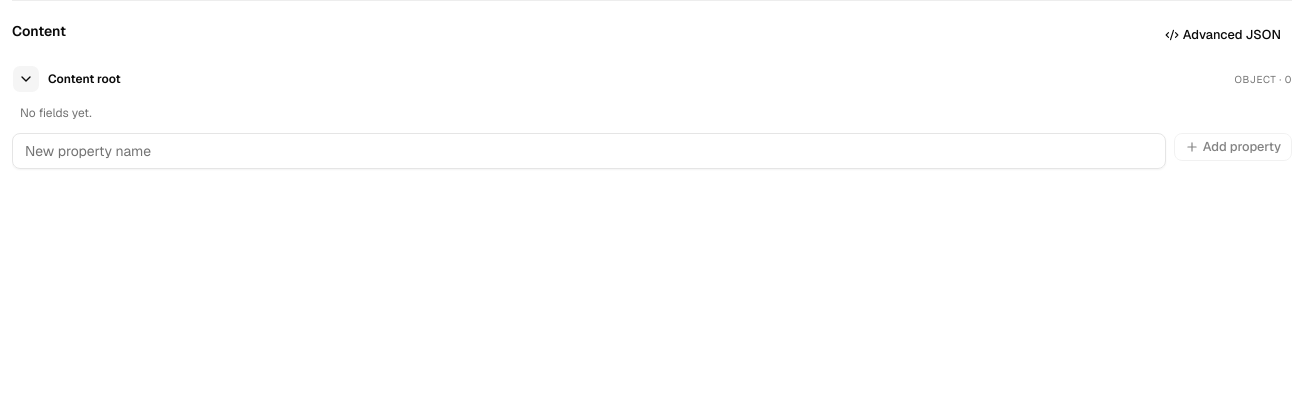
Scenario: StructuredJsonEditor › rejects array roots and has no serious accessibility violations
The image size is (1304, 405).
Step 1. Click the button "Advanced JSON" → coordinates (1223, 35), box x1=1154 y1=21 x2=1292 y2=49
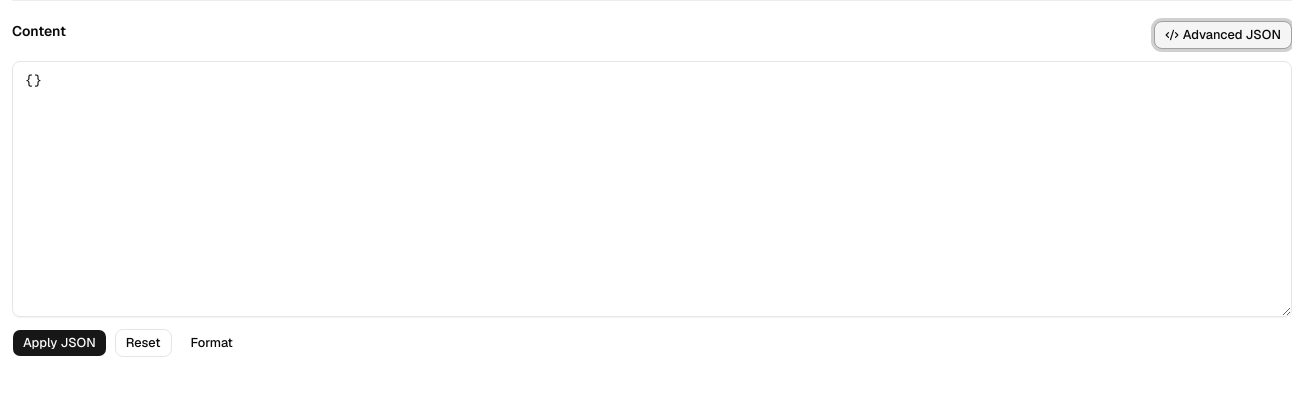
Step 2. Replace the text in the text box named "Content raw JSON" with "[]" → coordinates (652, 189), box x1=12 y1=61 x2=1292 y2=317
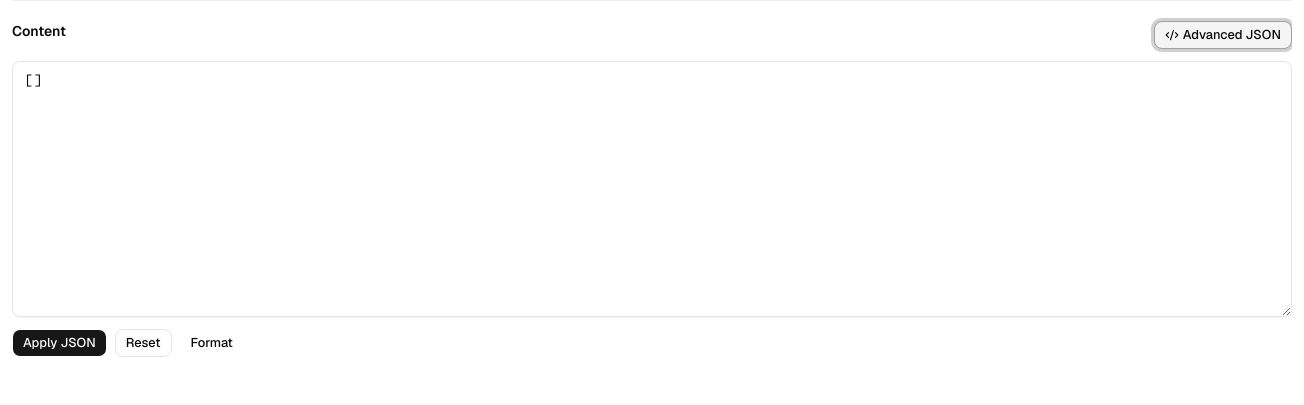
Step 3. Click the button "Apply JSON" → coordinates (59, 343), box x1=12 y1=329 x2=107 y2=357
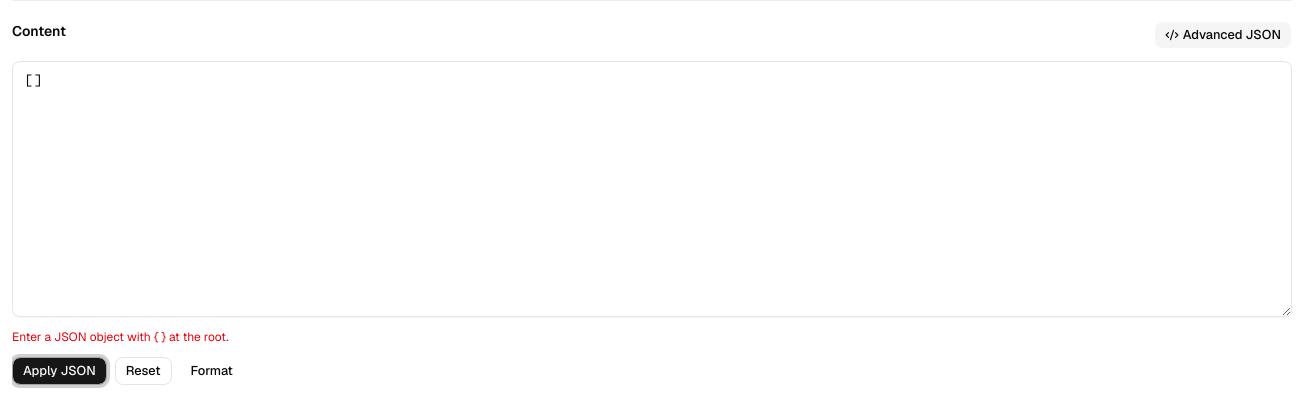
expect the text "Enter a JSON object with { } at the root." is shown: met, box x1=12 y1=329 x2=229 y2=345
